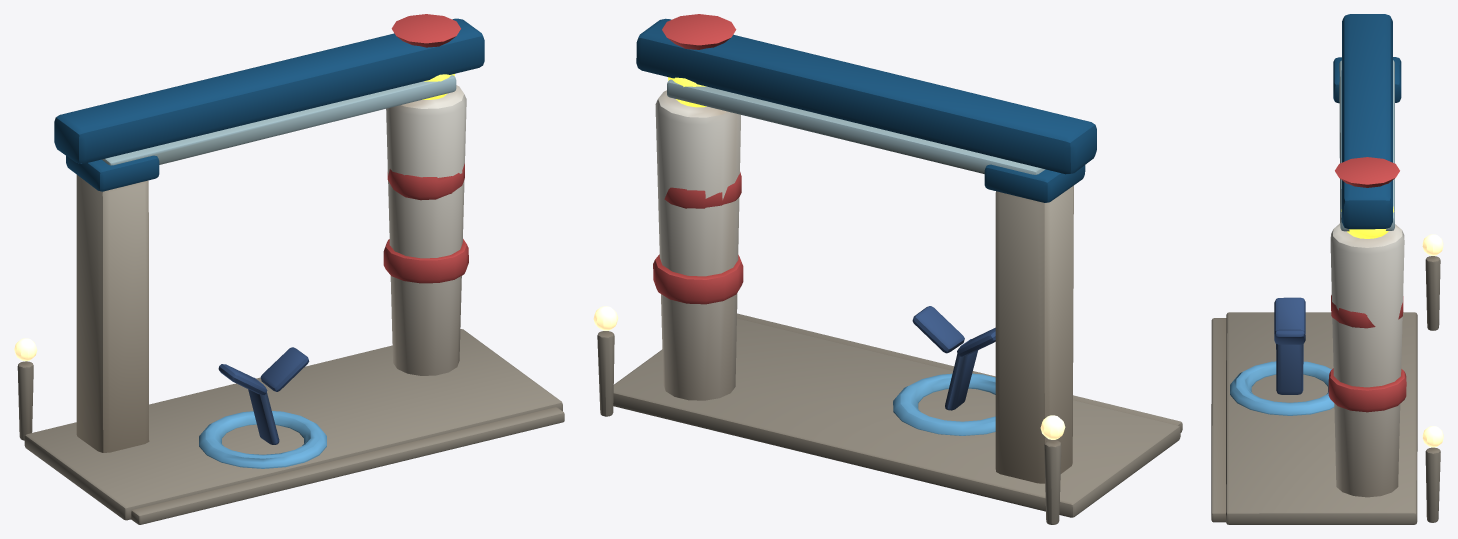
3 renders of one model, left to right at view 1: azimuth 30°, elevation 25°; view 2: azimuth 150°, elevation 25°; view 3: azimuth 270°, elevation 25°, orthographic. The views are drawn at different scales.
Visible parts, largest first — view 1: gate_2863f6e3; view 2: gate_2863f6e3; view 3: gate_2863f6e3.
Part boxes in pixels (bbox=[...]): gate_2863f6e3: bbox=[14, 14, 564, 524]; gate_2863f6e3: bbox=[593, 14, 1182, 524]; gate_2863f6e3: bbox=[1211, 14, 1443, 524].
Bounding box in the file's own units: 5.23 × 3.96 × 2.55.
